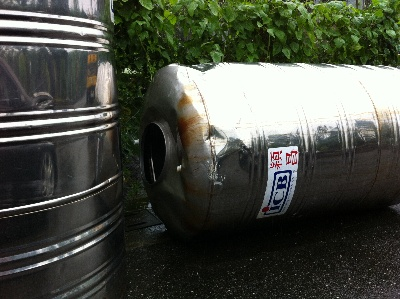water_tower: (137, 60, 400, 236)
